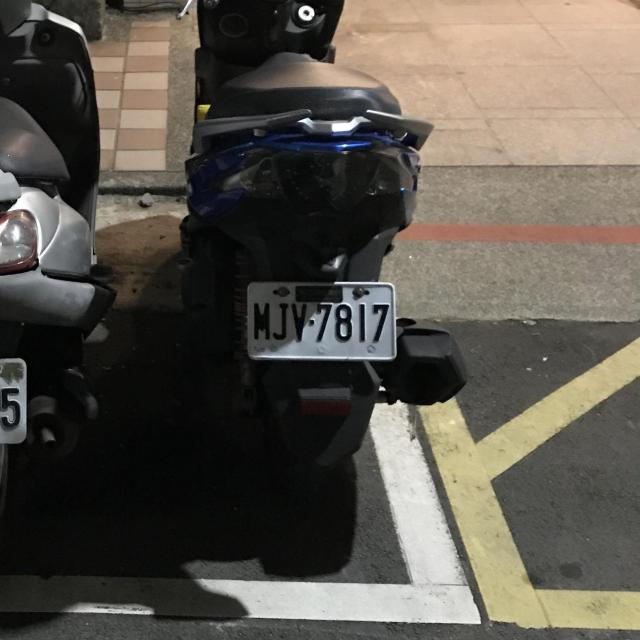W: (242, 275, 401, 366), (0, 349, 31, 455)
